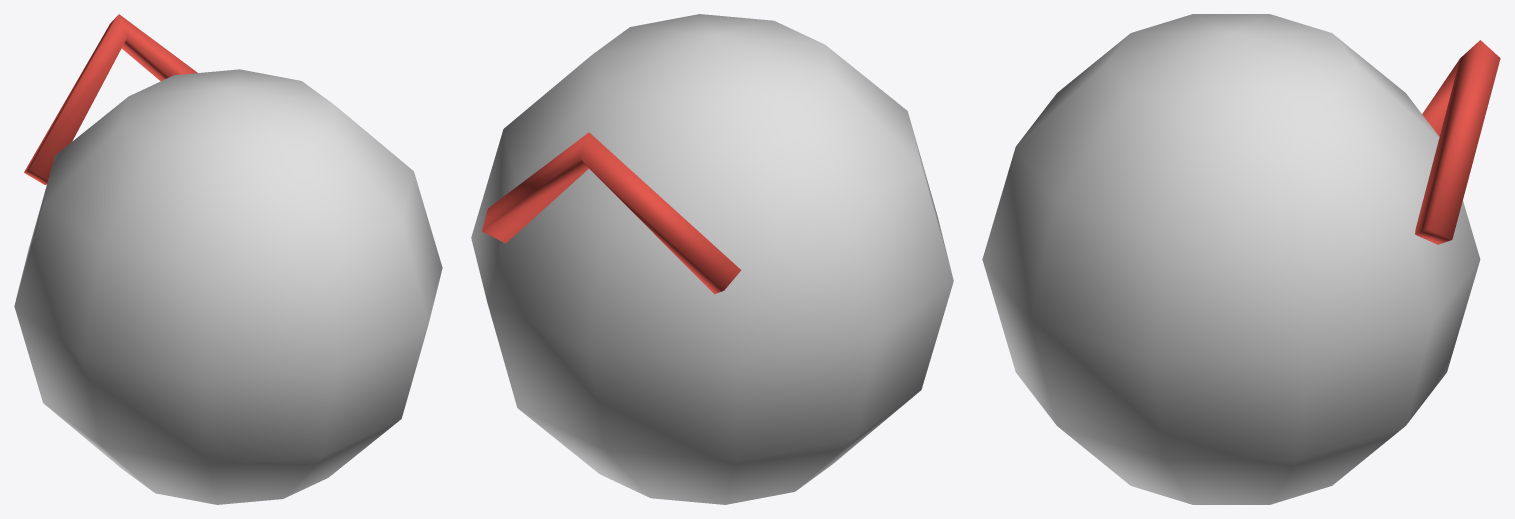
File: baseball.glb
3 renders of one model, left to right at view 1: azimuth 30°, elevation 25°; view 2: azimuth 150°, elevation 25°; view 3: azimuth 270°, elevation 25°, orthographic. The views are drawn at different scales.
Parts seen in each view (by area): view 1: baseball; view 2: baseball; view 3: baseball.
Boxes of the visible parts, x1,y1,x2,y2 form: baseball: [14, 14, 442, 504]; baseball: [471, 14, 953, 504]; baseball: [982, 14, 1500, 504].
Bounding box in the file's own units: 0.0704 × 0.074 × 0.077.
